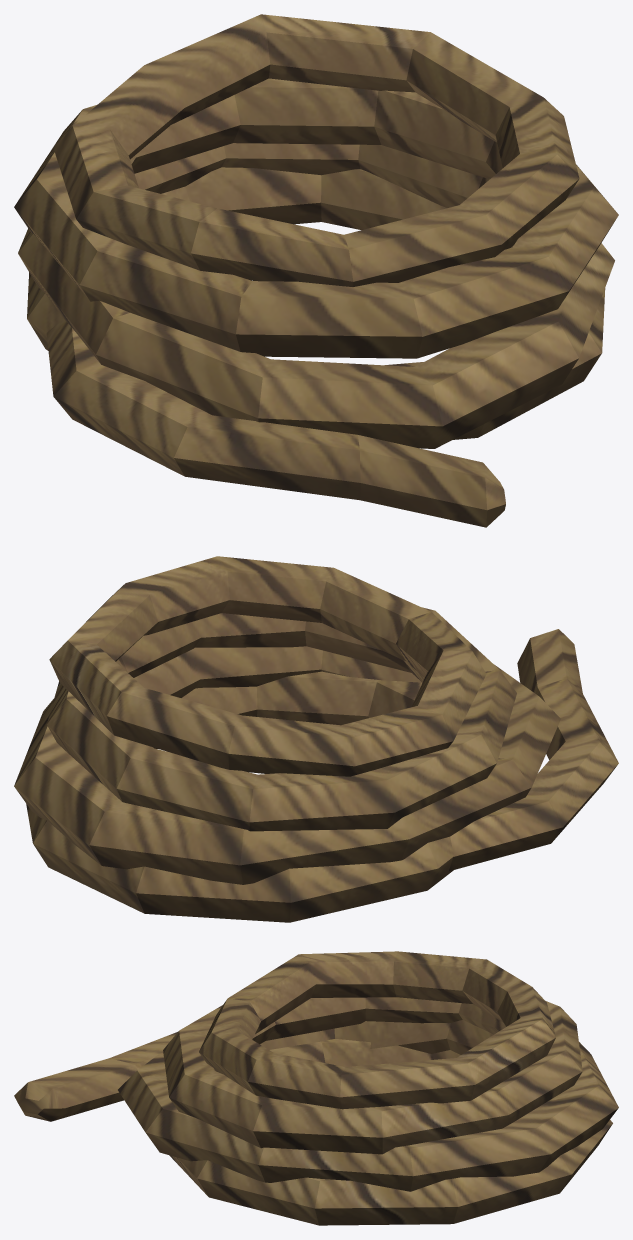
The model's file is Rope.fbx.
3 renders of one model, top to bottom at view 1: azimuth 30°, elevation 25°; view 2: azimuth 150°, elevation 25°; view 3: azimuth 270°, elevation 25°, orthographic. The views are drawn at different scales.
Parts seen in each view (by area): view 1: pTorus5; view 2: pTorus5; view 3: pTorus5.
Part boxes in pixels (x1=…): pTorus5: x1=14, y1=14, x2=618, y2=527; pTorus5: x1=14, y1=556, x2=618, y2=922; pTorus5: x1=14, y1=951, x2=618, y2=1225.
Bounding box in the file's own units: 59.67 × 22.53 × 81.81.
